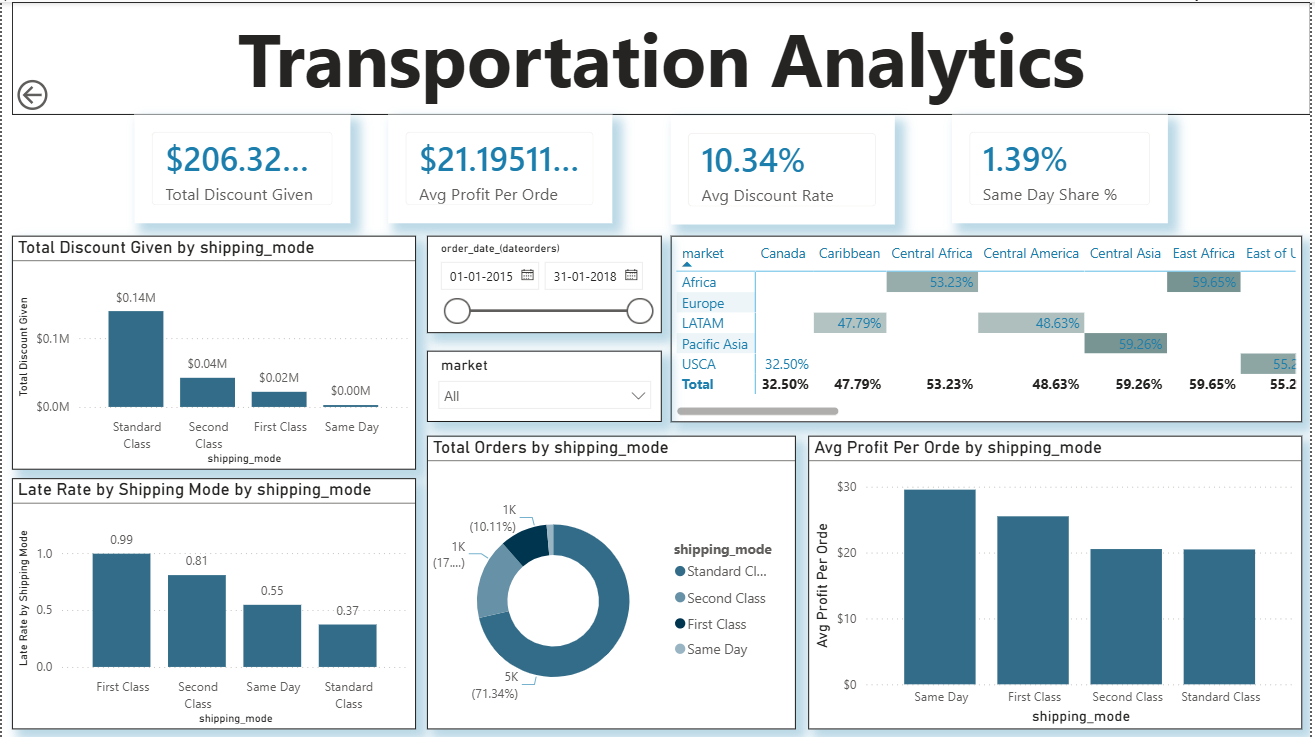

Layout of this report page (visuals, bound fields, positions):
{"tool":"powerbi","page":{"name":"Transportation Analytics","canvas":[1280,720],"ordinal":3},"visuals":[{"type":"textbox","box":[9.8,0,1270.5,110.1],"z":0},{"type":"cardVisual","fields":{"Data":["fact_table.Avg Profit Per Orde"]},"box":[377.9,110.1,218.9,106.4],"z":1000},{"type":"cardVisual","fields":{"Data":["fact_table.Avg Discount Rate"]},"box":[654.2,111.3,218.9,106.4],"z":2000},{"type":"cardVisual","fields":{"Data":["fact_table.Total Discount Given"]},"box":[129.6,110.1,211.6,106.4],"z":3000},{"type":"cardVisual","fields":{"Data":["fact_table.Same Day Share %"]},"box":[929.4,110.1,211.6,106.4],"z":4000},{"type":"columnChart","fields":{"Y":["fact_table.Total Discount Given"],"Category":["Dim_Shipping.shipping_mode"]},"box":[9.8,228.7,395,228.7],"z":5000},{"type":"pivotTable","fields":{"Rows":["fact_table.market"],"Columns":["fact_table.order_region Hierarchy.order_region"],"Values":["fact_table.Late Delivery %"]},"box":[654.2,228.7,617.5,182.2],"z":6000},{"type":"columnChart","fields":{"Y":["fact_table.Late Rate by Shipping Mode"],"Category":["fact_table.shipping_mode"]},"box":[9.8,465.9,395,245.8],"z":7000},{"type":"donutChart","fields":{"Y":["fact_table.Total Orders"],"Category":["fact_table.shipping_mode"]},"box":[415.8,424.3,360.7,287.4],"z":8000},{"type":"columnChart","fields":{"Y":["fact_table.Avg Profit Per Orde"],"Category":["fact_table.shipping_mode"]},"box":[788.7,424.3,483,287.4],"z":9000},{"type":"slicer","fields":{"Values":["fact_table.market"]},"box":[415.8,341.2,229.9,69.7],"z":10000},{"type":"slicer","fields":{"Values":["fact_table.order_date_(dateorders)"]},"box":[415.8,228.7,229.9,95.4],"z":11000},{"type":"actionButton","box":[9.8,70.9,100,40],"z":12000}]}

Visuals, with their boxes in screenshot pixels (x1, y1, x2, y2), scaled from the page's 1280x720 canvas onto the 1315x737 screenshot:
textbox: pyautogui.locateOnScreen(10, 0, 1314, 113)
cardVisual - fact_table.Avg Profit Per Orde: pyautogui.locateOnScreen(388, 113, 613, 222)
cardVisual - fact_table.Avg Discount Rate: pyautogui.locateOnScreen(672, 114, 897, 223)
cardVisual - fact_table.Total Discount Given: pyautogui.locateOnScreen(133, 113, 351, 222)
cardVisual - fact_table.Same Day Share %: pyautogui.locateOnScreen(955, 113, 1172, 222)
columnChart - fact_table.Total Discount Given x Dim_Shipping.shipping_mode: pyautogui.locateOnScreen(10, 234, 416, 468)
pivotTable - fact_table.market x fact_table.order_region Hierarchy.order_region: pyautogui.locateOnScreen(672, 234, 1306, 421)
columnChart - fact_table.Late Rate by Shipping Mode x fact_table.shipping_mode: pyautogui.locateOnScreen(10, 477, 416, 729)
donutChart - fact_table.Total Orders x fact_table.shipping_mode: pyautogui.locateOnScreen(427, 434, 798, 729)
columnChart - fact_table.Avg Profit Per Orde x fact_table.shipping_mode: pyautogui.locateOnScreen(810, 434, 1306, 729)
slicer - fact_table.market: pyautogui.locateOnScreen(427, 349, 663, 421)
slicer - fact_table.order_date_(dateorders): pyautogui.locateOnScreen(427, 234, 663, 332)
actionButton: pyautogui.locateOnScreen(10, 73, 113, 114)
